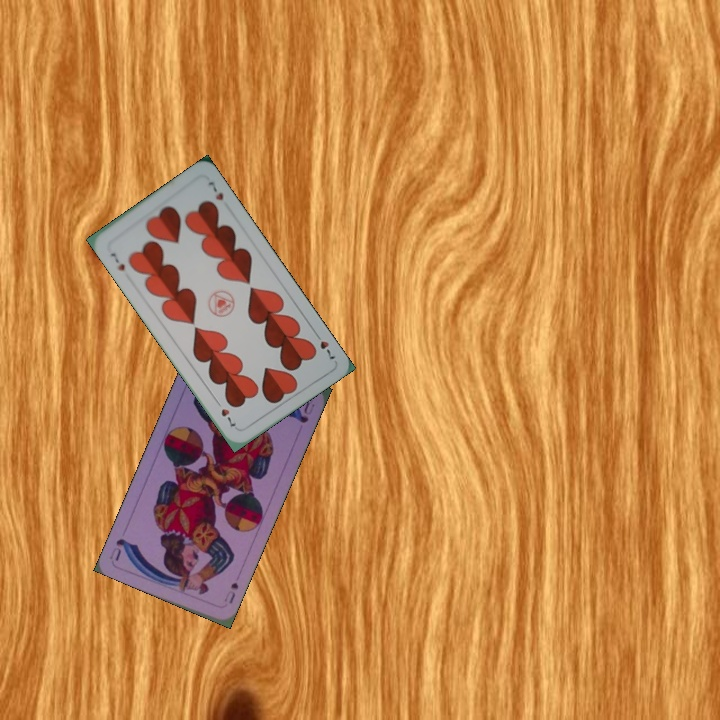H7: (310, 327, 339, 362), (106, 249, 128, 274)
SU: (220, 578, 241, 606)
